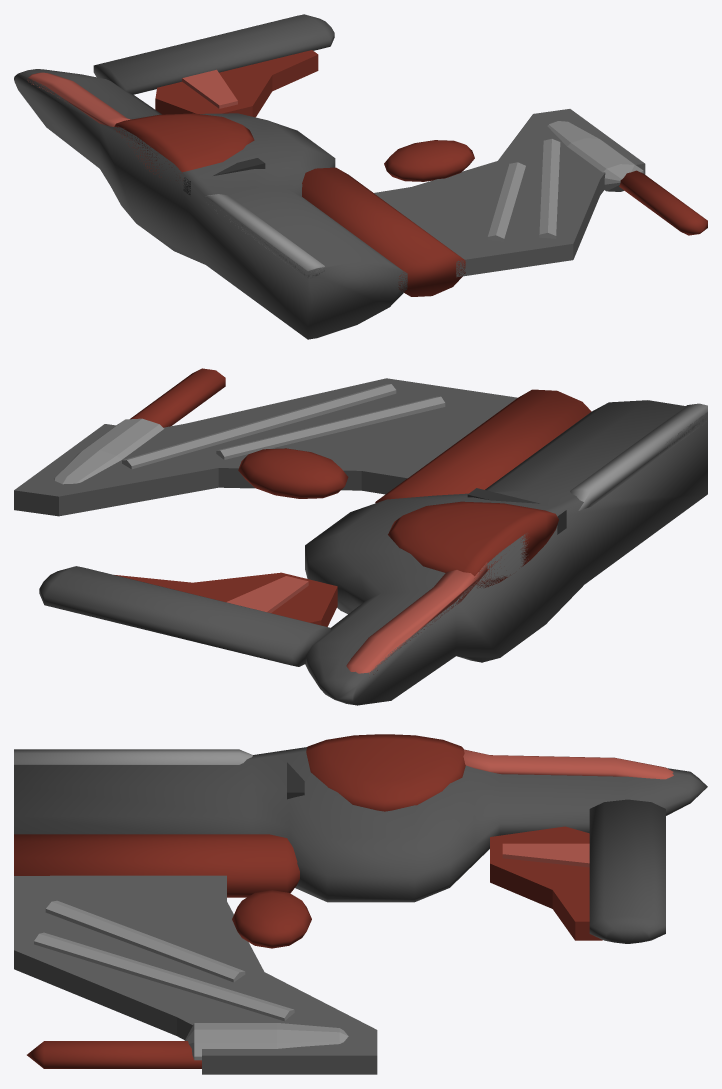
Rendered from newsh5-231.glb.
3 renders of one model, top to bottom at view 1: azimuth 30°, elevation 25°; view 2: azimuth 150°, elevation 25°; view 3: azimuth 270°, elevation 25°, orthographic. The views are drawn at different scales.
Visible parts, largest first — view 1: newsh5-231; view 2: newsh5-231; view 3: newsh5-231.
Part boxes in pixels (left/top/right/bottom): newsh5-231: left=14, top=14, right=707, bottom=339; newsh5-231: left=14, top=368, right=707, bottom=705; newsh5-231: left=14, top=734, right=707, bottom=1074.
Bounding box in the file's own units: 1.88 × 0.415 × 2.31.
